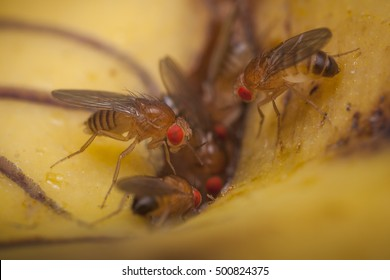Fruit fly: (53, 78, 194, 163), (225, 32, 338, 124), (123, 175, 208, 237)
